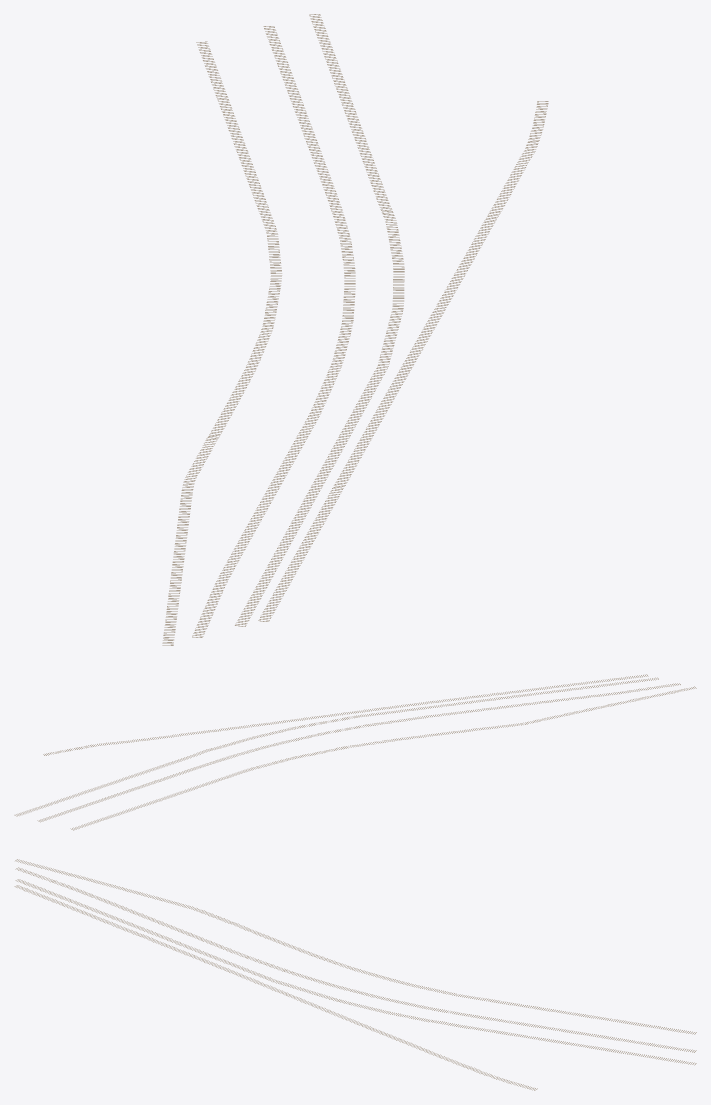
The model's file is c_1631_17829_rail_sleeper.glb.
3 views of the same model, one above another, from view 1: azimuth 30°, elevation 25°; view 2: azimuth 150°, elevation 25°; view 3: azimuth 270°, elevation 25° (orthographic). The views are drawn at different scales.
Parts seen in each view (by area): view 1: geometry_0; view 2: geometry_0; view 3: geometry_0.
Part boxes in pixels (x1=…): geometry_0: x1=162, y1=14, x2=548, y2=645; geometry_0: x1=14, y1=674, x2=696, y2=830; geometry_0: x1=14, y1=859, x2=696, y2=1090.
Size of the model in its own units: 206 by 1.07 by 257.
